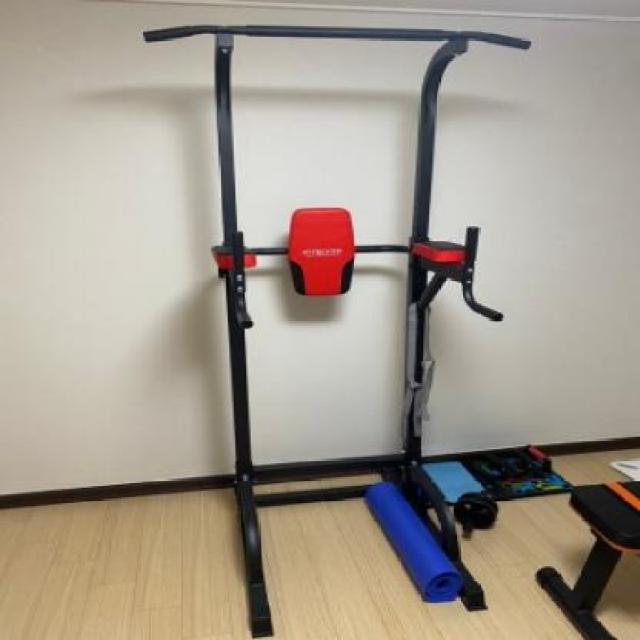chinning dipping: (142, 23, 532, 637)
